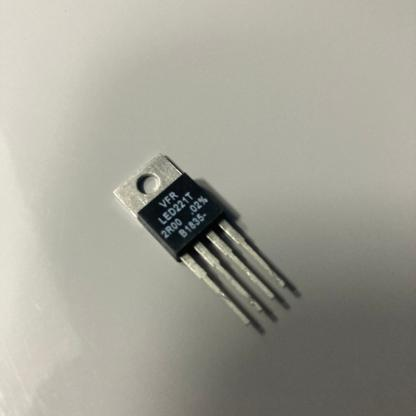SP0000012: (96, 137, 346, 372)
